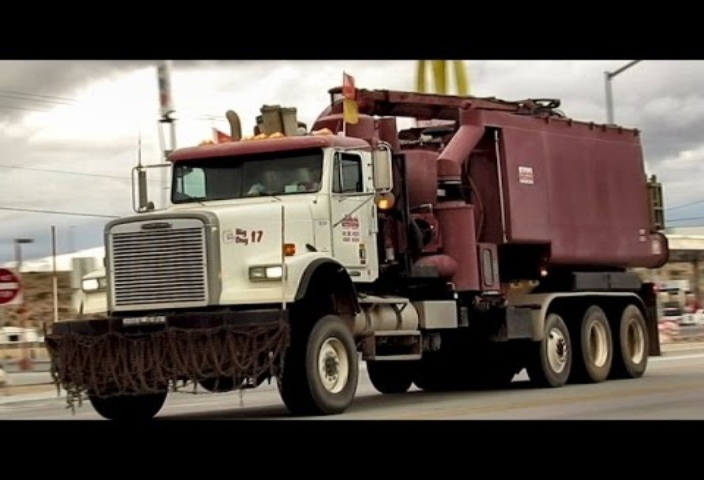industrial: (33, 67, 680, 426)
